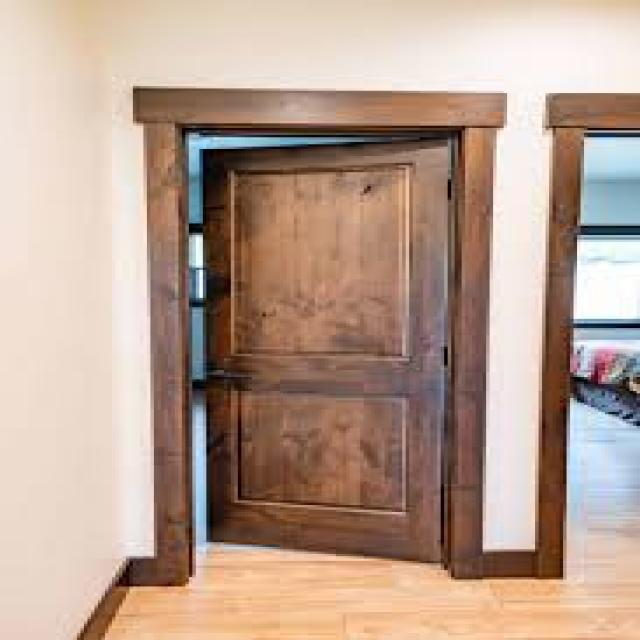door: (133, 88, 506, 588), (535, 93, 637, 585)
